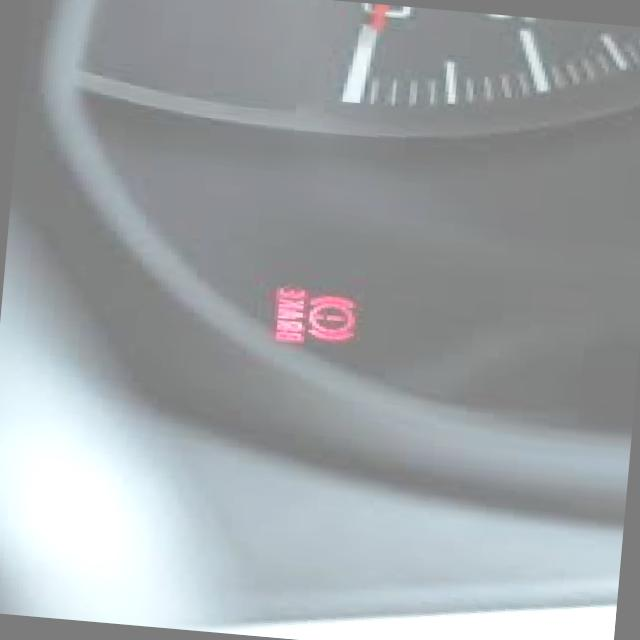kontrolka: (243, 268, 369, 362)
